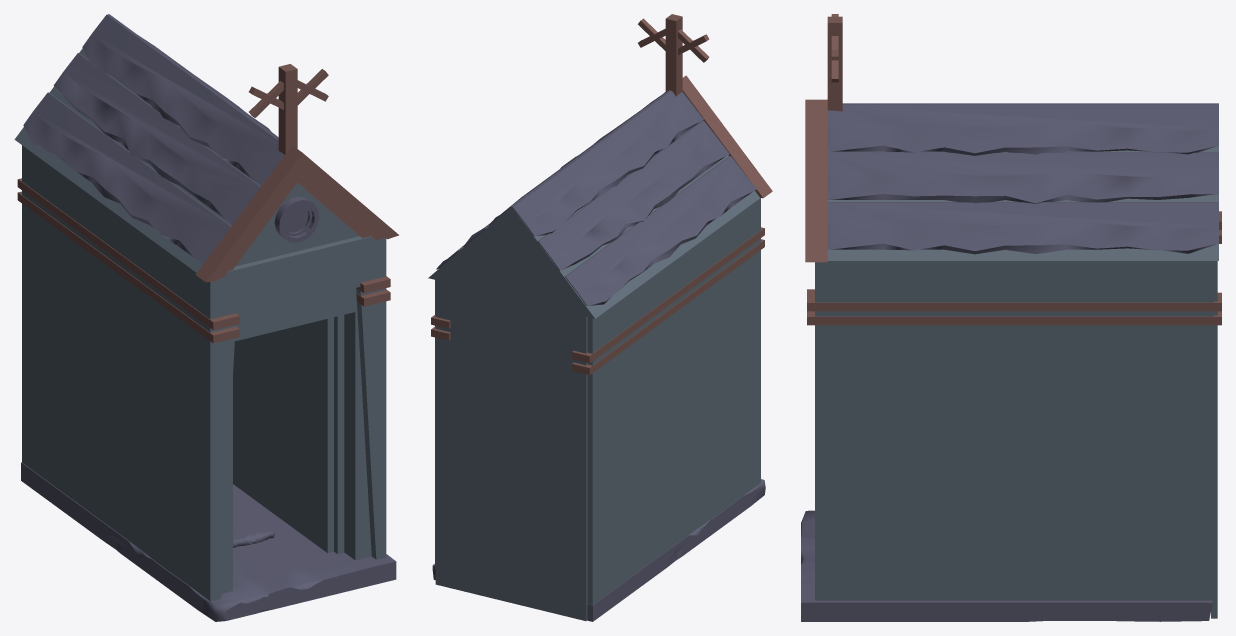
File: solitudehouse2.FBX
3 views of the same model, side by side, from view 1: azimuth 30°, elevation 25°; view 2: azimuth 150°, elevation 25°; view 3: azimuth 270°, elevation 25° (orthographic). The views are drawn at different scales.
Parts seen in each view (by area): view 1: Box006, Group002, Box007, Box002, Shape001, Shape005, Shape004, Cylinder001, Box012, Shape002, Shape003, Box011; view 2: Box006, Box008, Group002, Box002, Box007, Shape001, Shape004, Shape005, Box012; view 3: Box006, Group002, Box007, Box002, Shape004, Shape005, Shape001, Box008, Box012.
Boxes of the visible parts, x1,y1,x2,y2 form: Box006: [22, 145, 386, 601]; Group002: [23, 14, 284, 264]; Box007: [21, 462, 396, 621]; Box002: [14, 48, 359, 272]; Shape001: [195, 145, 398, 282]; Shape005: [17, 191, 390, 343]; Shape004: [17, 178, 390, 330]; Cylinder001: [274, 196, 319, 242]; Box012: [278, 64, 297, 154]; Shape002: [220, 167, 384, 278]; Shape003: [229, 175, 370, 270]; Box011: [233, 511, 275, 547]; Box006: [435, 198, 760, 605]; Box008: [435, 280, 587, 620]; Group002: [436, 90, 756, 305]; Box002: [428, 121, 759, 318]; Box007: [432, 479, 765, 621]; Shape001: [663, 75, 772, 198]; Shape004: [431, 227, 764, 363]; Shape005: [431, 239, 764, 375]; Box012: [665, 14, 682, 96]; Box006: [815, 261, 1213, 602]; Group002: [826, 103, 1218, 254]; Box007: [801, 510, 1212, 621]; Box002: [827, 145, 1218, 260]; Shape004: [807, 211, 1221, 311]; Shape005: [807, 230, 1221, 325]; Shape001: [805, 99, 827, 262]; Box008: [1211, 261, 1217, 618]; Box012: [827, 16, 842, 111].
Size of the model in its own units: 41.81 by 108 by 74.22.
